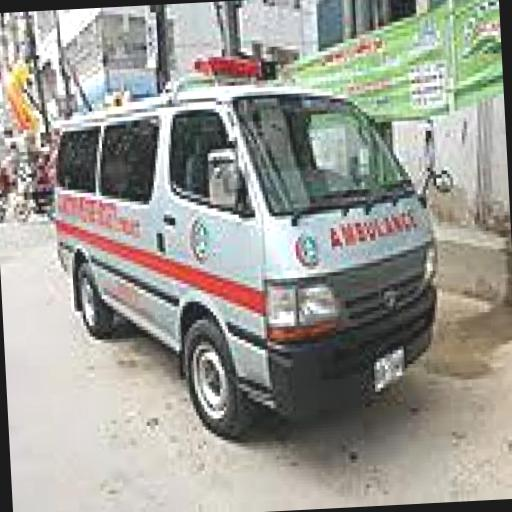Police car: (42, 42, 447, 445)
